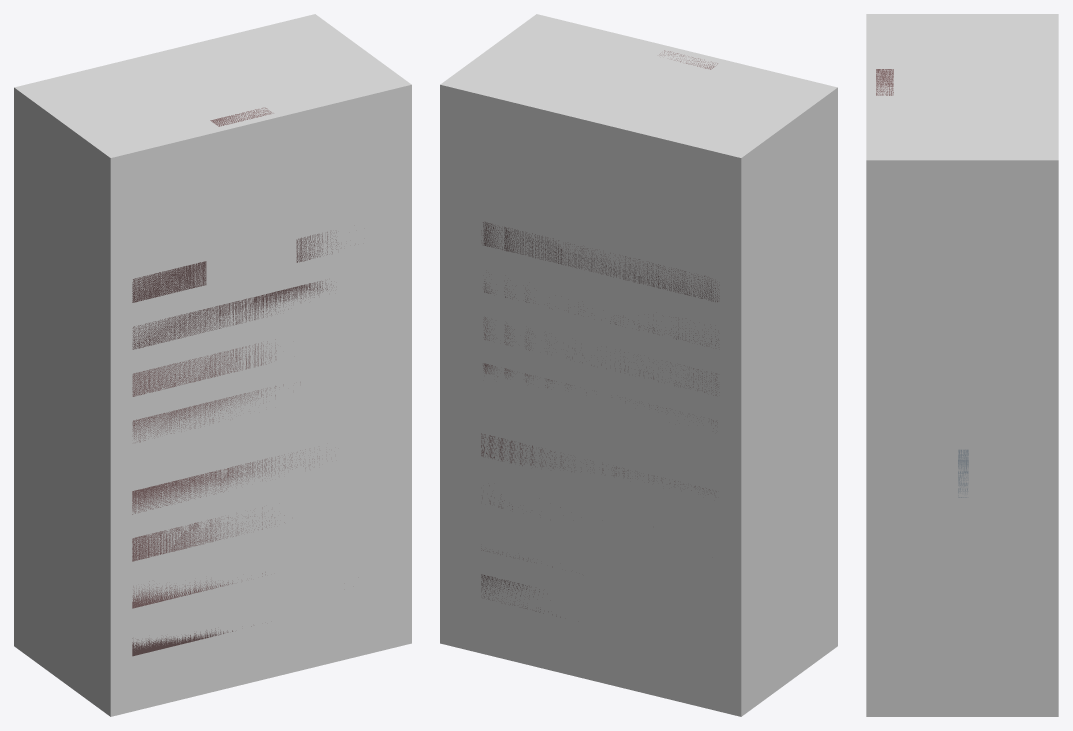
File: CabinLuggage.fbx
3 renders of one model, left to right at view 1: azimuth 30°, elevation 25°; view 2: azimuth 150°, elevation 25°; view 3: azimuth 270°, elevation 25°, orthographic.
Parts seen in each view (by area): view 1: CabinLuggage_COL0, CabinLuggage_LOD0; view 2: CabinLuggage_COL0, CabinLuggage_LOD0; view 3: CabinLuggage_COL0, CabinLuggage_LOD0.
Part boxes in pixels (left/top/right/bottom): CabinLuggage_COL0: left=14, top=14, right=411, bottom=716; CabinLuggage_LOD0: left=132, top=107, right=338, bottom=656; CabinLuggage_COL0: left=440, top=14, right=837, bottom=716; CabinLuggage_LOD0: left=481, top=50, right=719, bottom=617; CabinLuggage_COL0: left=866, top=14, right=1058, bottom=716; CabinLuggage_LOD0: left=876, top=69, right=968, bottom=497.
Size of what is drawn, in the model's own units: 1.12 by 1.98 by 0.6218.
